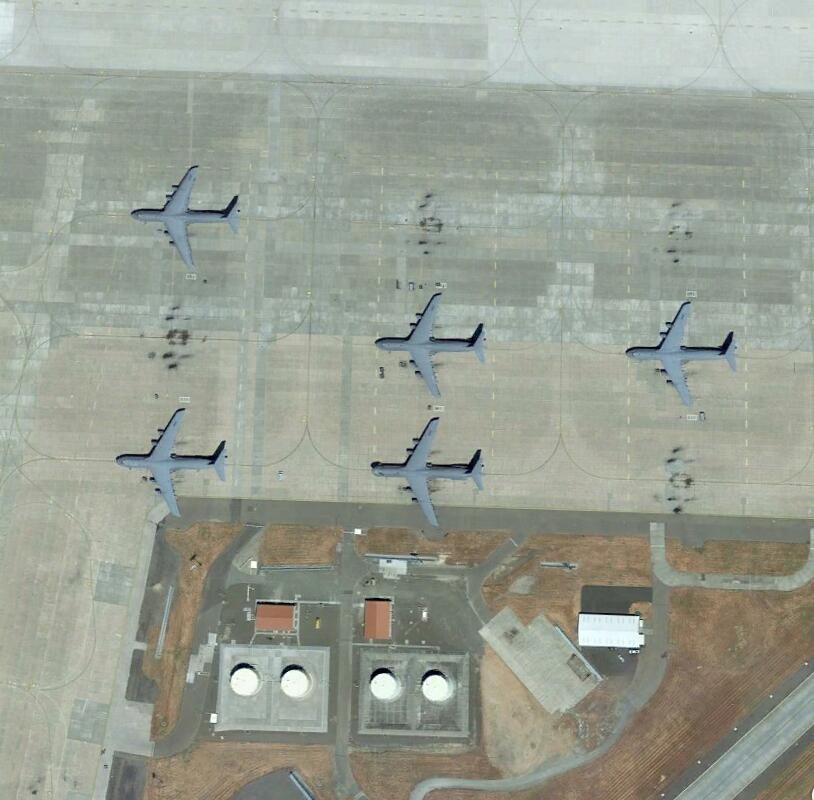A4: (371, 416, 486, 529), (113, 408, 229, 517), (377, 291, 489, 398), (630, 301, 738, 406), (133, 165, 242, 267)
